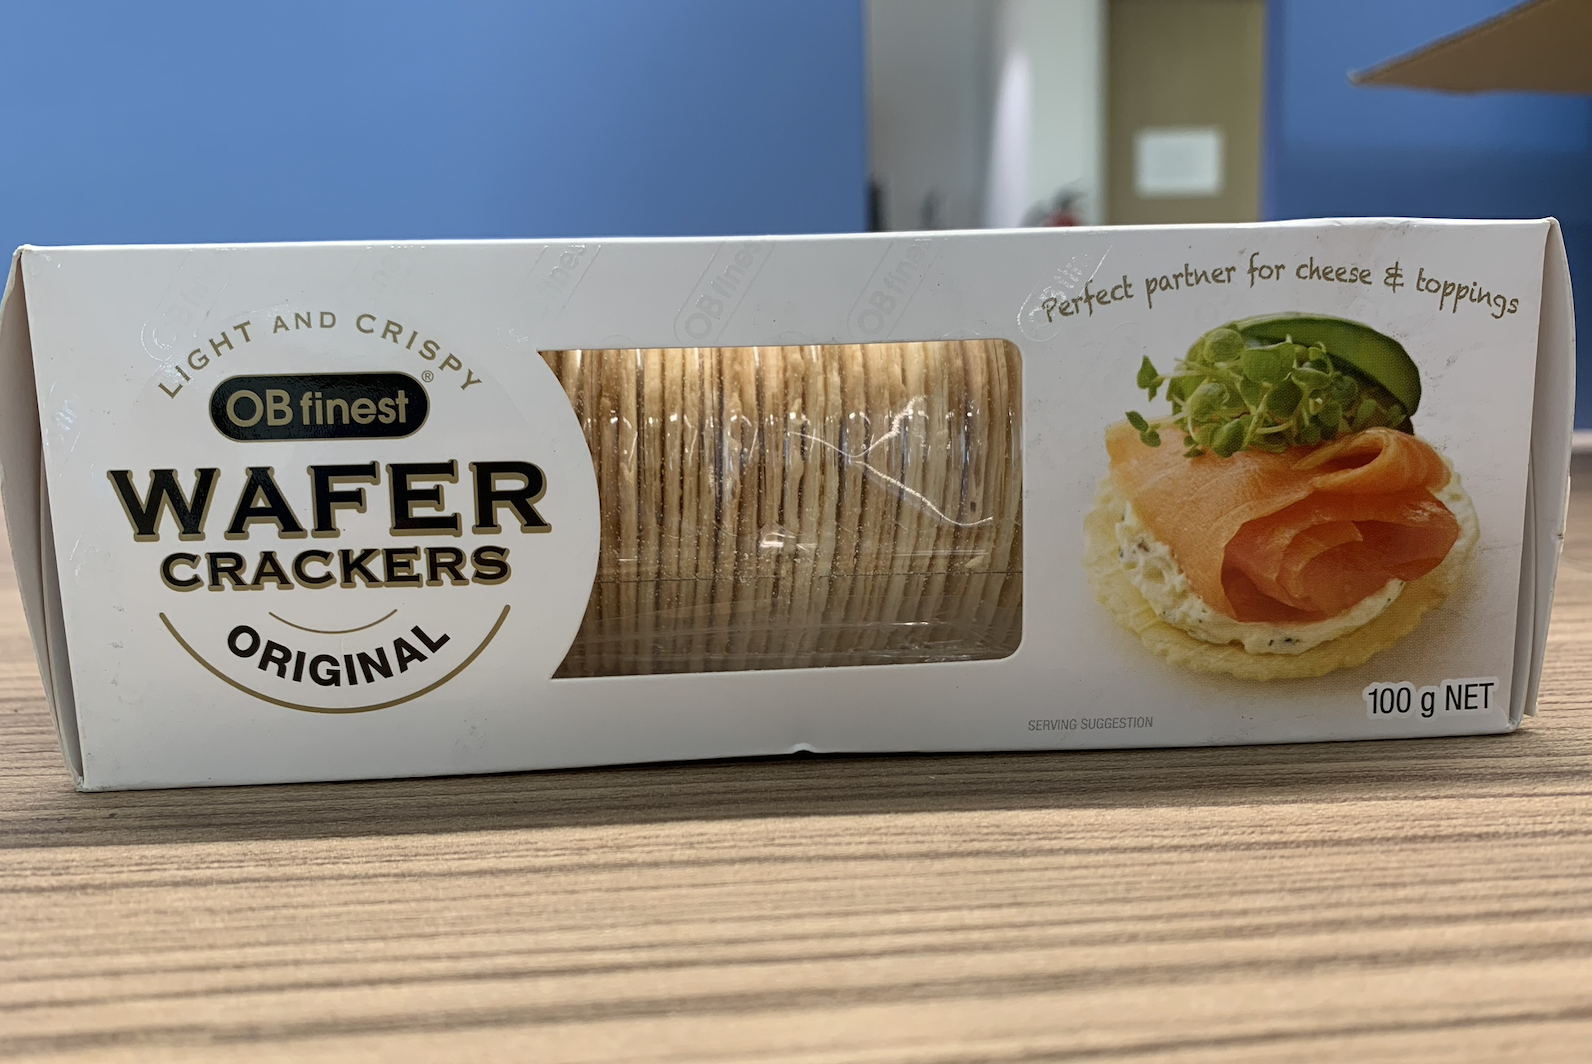crackers_100g-199g: (83, 253, 1530, 737)
